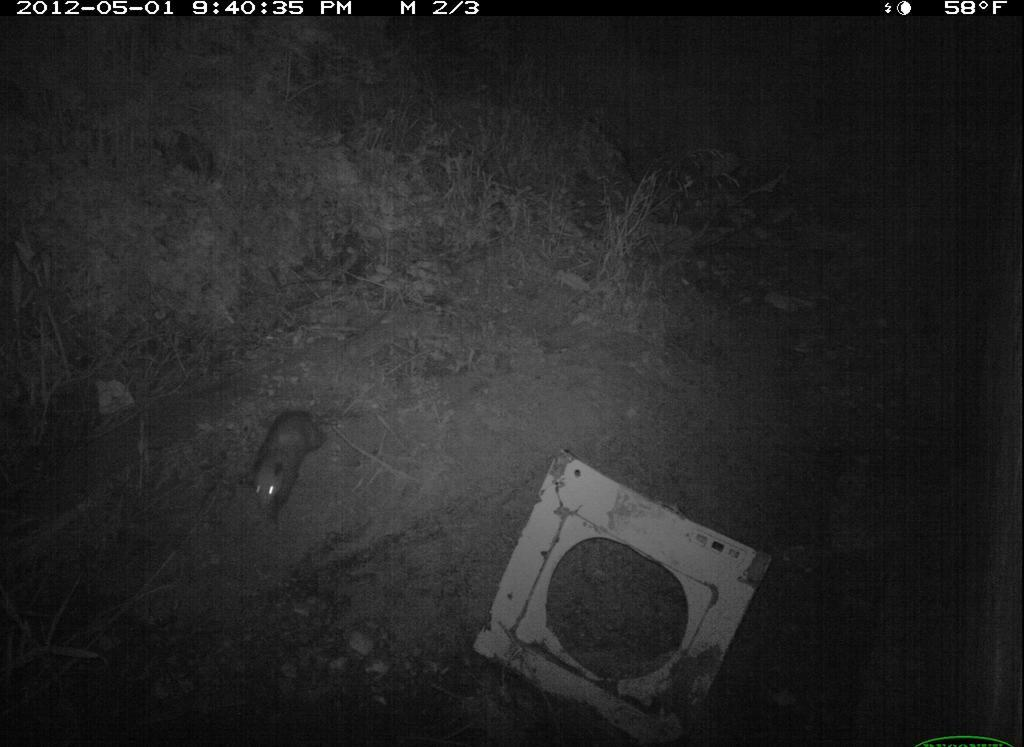opossum: (235, 395, 350, 541)
